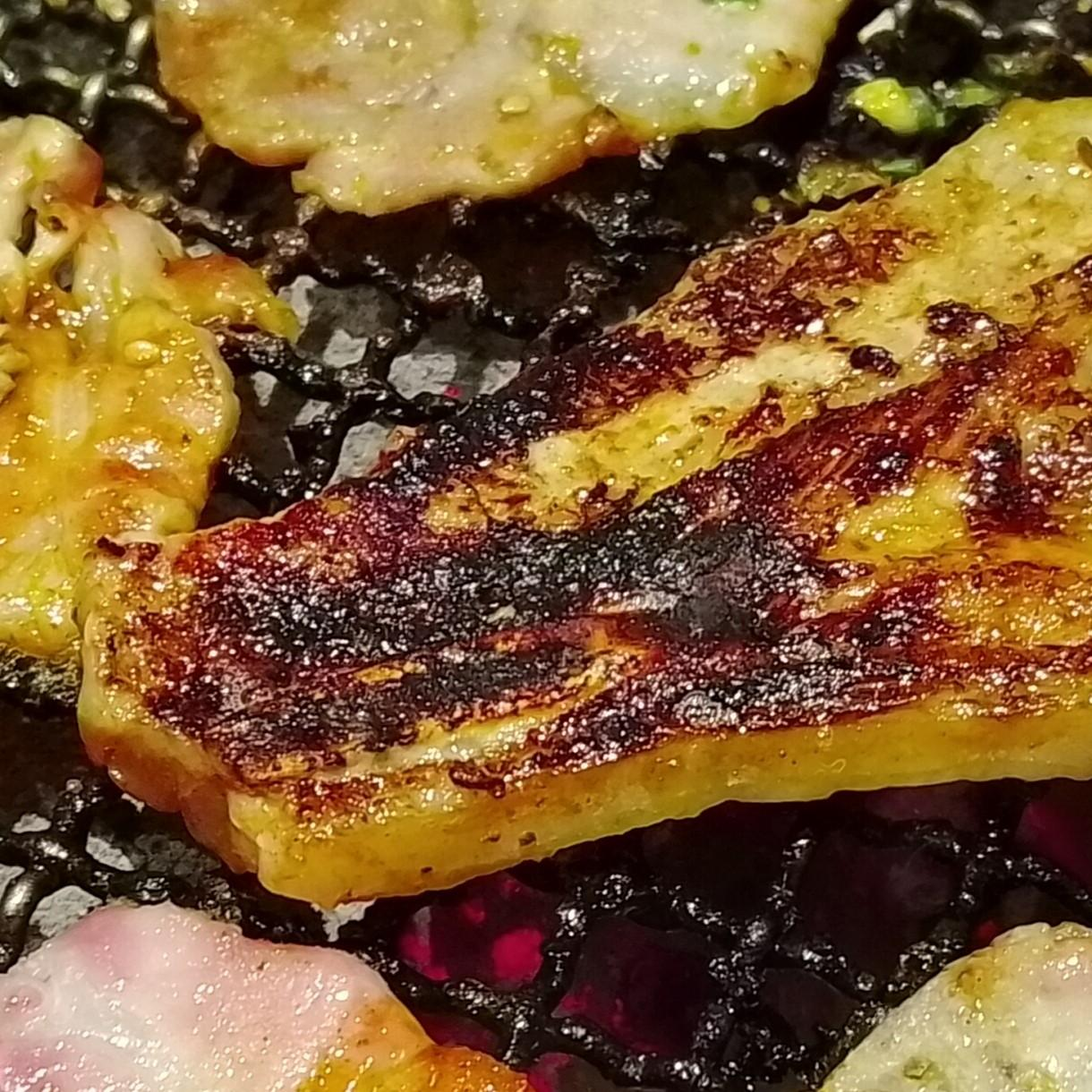Overcooked: (79, 99, 1091, 904)
